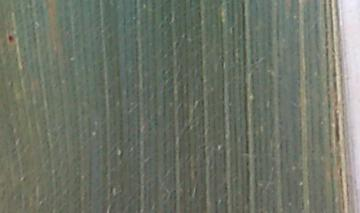tarspot: (7, 32, 15, 44)
